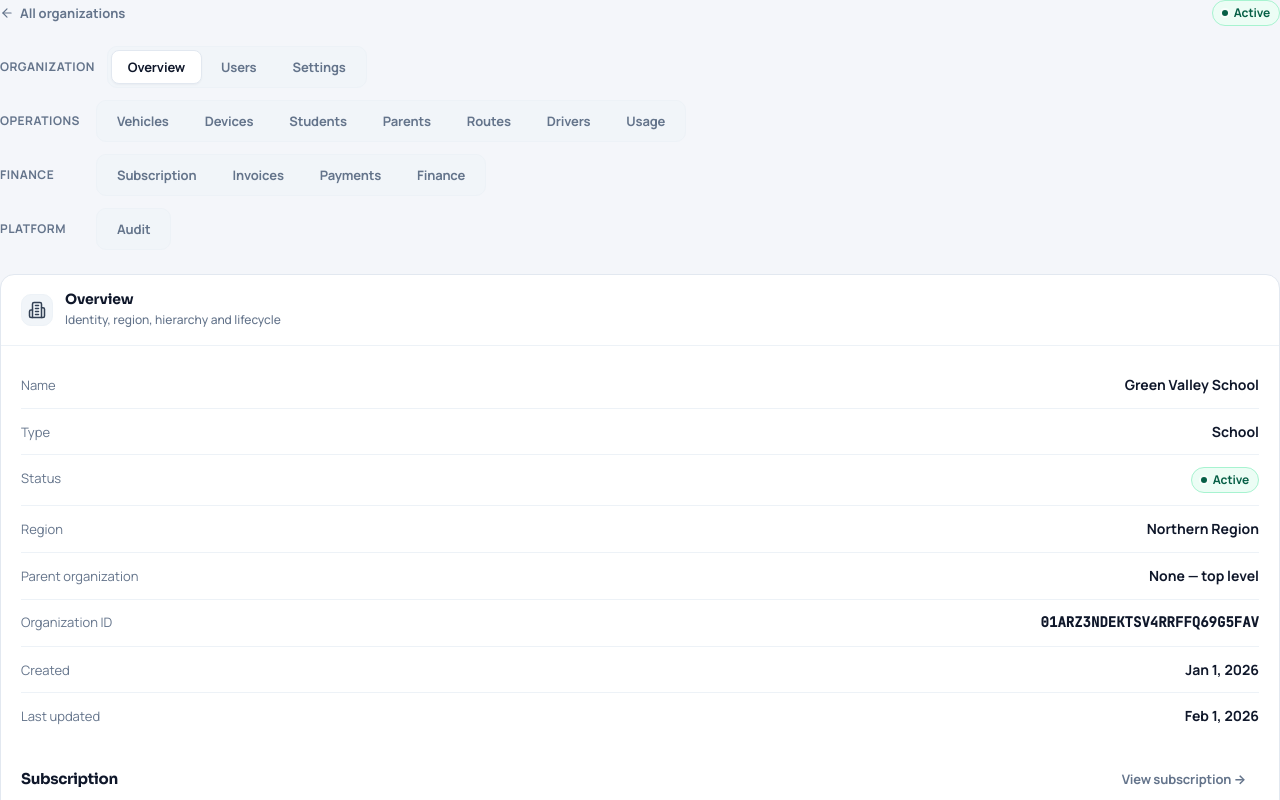
Test: OrganizationDetailsPage › shows a real count and explains the missing roster on the Students tab
The image size is (1280, 800).
Expected: the text "Green Valley School" is shown, [1125,374,1259,396]
Click the tab "Students": point(318, 121) [272,104,364,138]
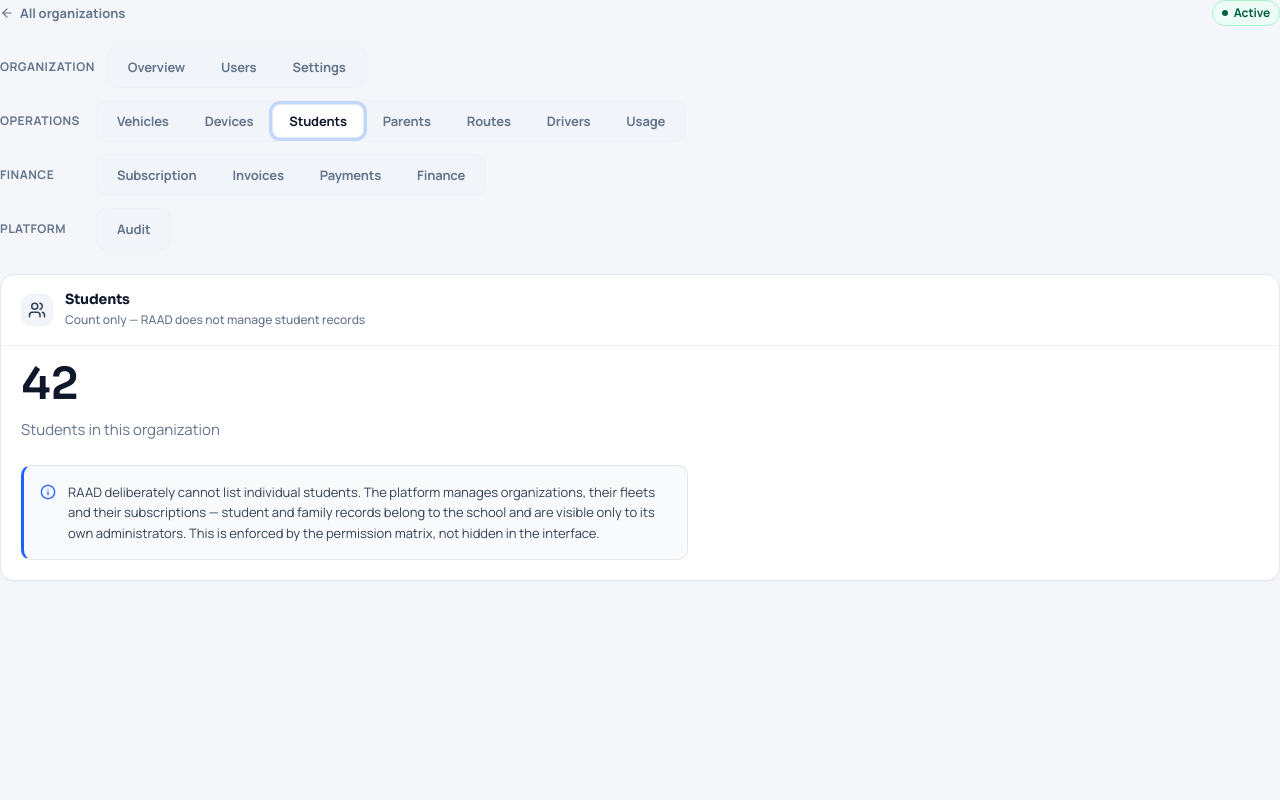
Expected: the text "42" is shown, [21,362,78,406]
Now the text "RAAD deliberately cannot list individual students" is shown, box [68,482,671,543]
